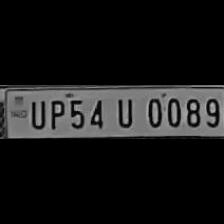0: (142, 94, 164, 128), (164, 94, 182, 128)
4: (86, 96, 106, 128)
5: (66, 97, 86, 130)
8: (182, 94, 202, 128)
9: (202, 94, 220, 128)
P: (46, 97, 64, 131)
U: (111, 95, 137, 129), (27, 98, 46, 130)
